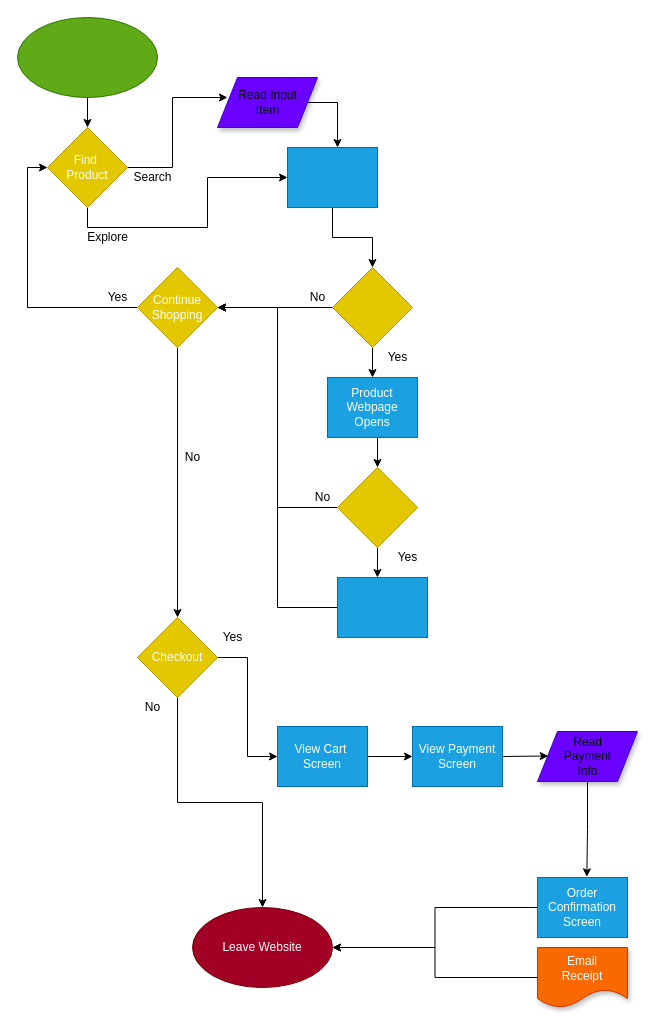
Image size: 661x1032. Some labels were removed from this diagram. The centre of each missing label's shape, as x and y in pixels:
"Add to Cart" goes at [377,507].
"Add to Cart Confirmation" goes at [382,607].
"Enter Website" goes at [87,57].
"Look Over Product List" goes at [332,177].
"View Product" goes at [372,307].
